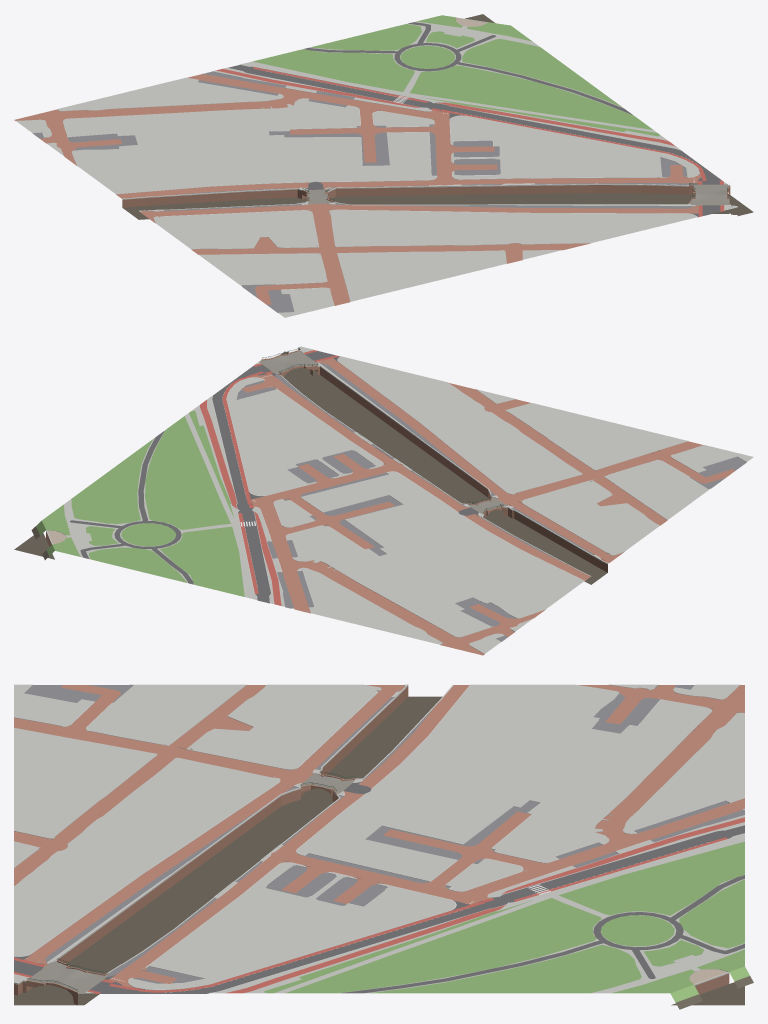
The model's file is ground_11_10.glb.
The picture shows the model from 3 angles, top to bottom: view 1: azimuth 30°, elevation 25°; view 2: azimuth 150°, elevation 25°; view 3: azimuth 270°, elevation 25°; orthographic projection. The views are drawn at different scales.
Visible parts, largest first — view 1: ground_11_10; view 2: ground_11_10; view 3: ground_11_10.
Part boxes in pixels (x1,y1,x2,y2): ground_11_10: [14, 14, 753, 317]; ground_11_10: [14, 346, 753, 655]; ground_11_10: [14, 684, 753, 1009].
Size of the model in its own units: 203 by 5.08 by 202.
